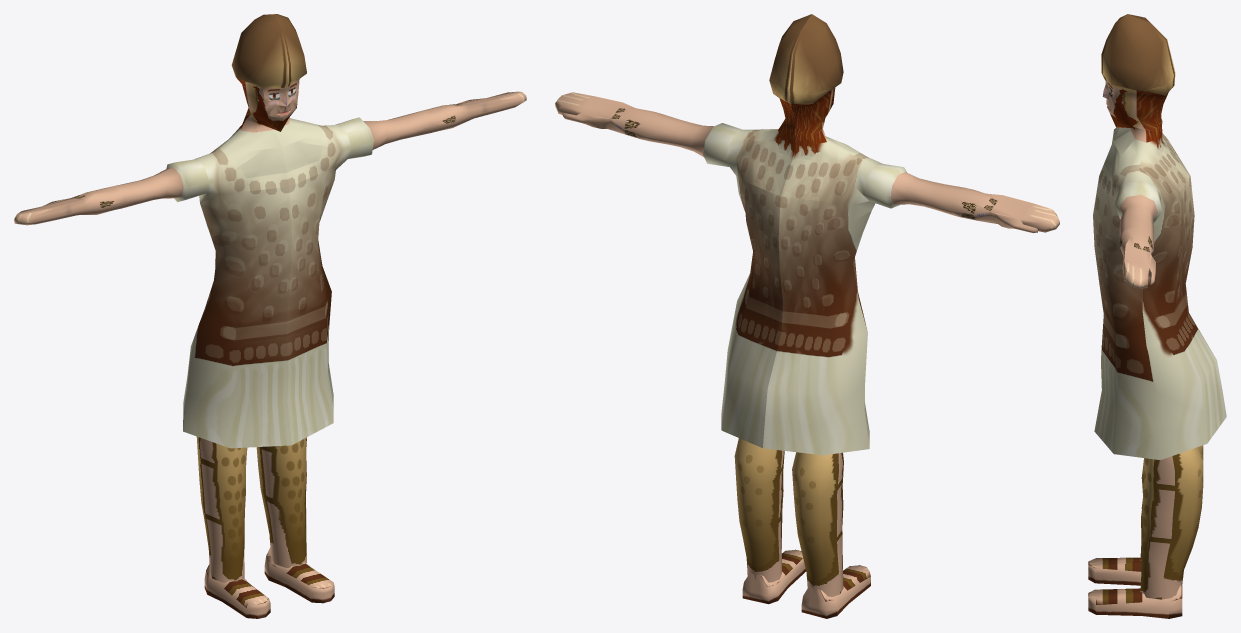
File: home.obj
3 renders of one model, left to right at view 1: azimuth 30°, elevation 25°; view 2: azimuth 150°, elevation 25°; view 3: azimuth 270°, elevation 25°, orthographic.
Parts seen in each view (by area): view 1: texture; view 2: texture; view 3: texture.
Part boxes in pixels (left/top/right/bottom): texture: left=14, top=14, right=526, bottom=618; texture: left=555, top=14, right=1059, bottom=618; texture: left=1088, top=14, right=1226, bottom=618.
Bounding box in the file's own units: 44.78 × 49.21 × 10.61.
Materials: 1 (1 with a texture image).
